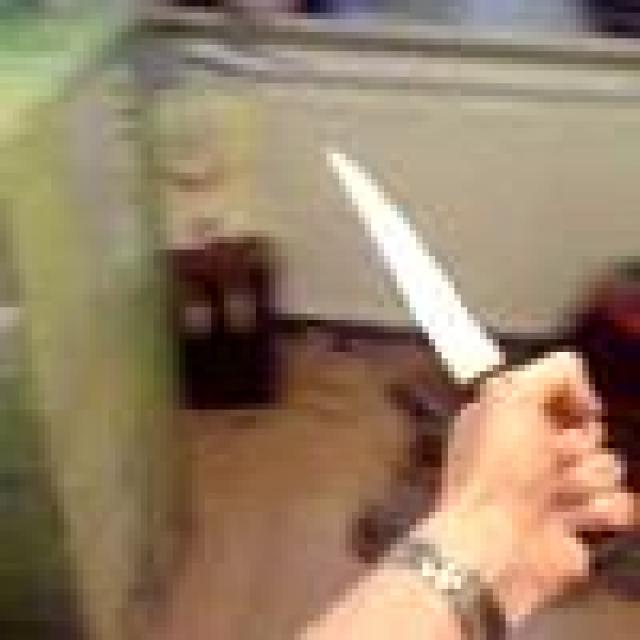knife: (331, 155, 497, 395)
